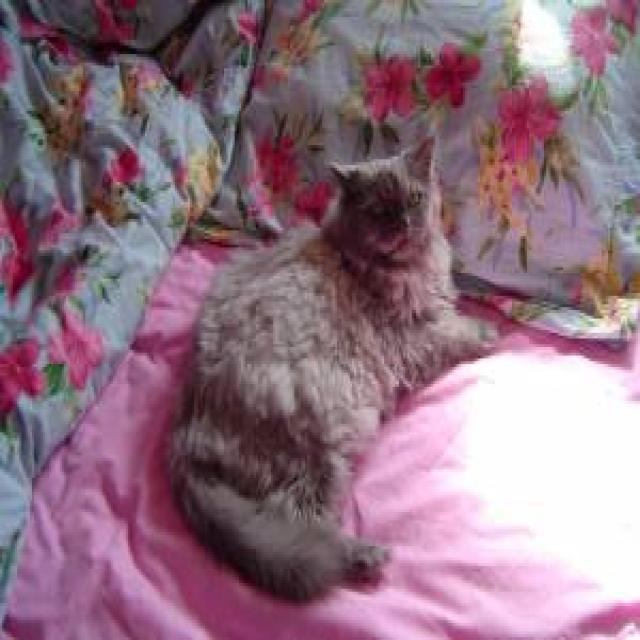Persian: (317, 122, 446, 266)
